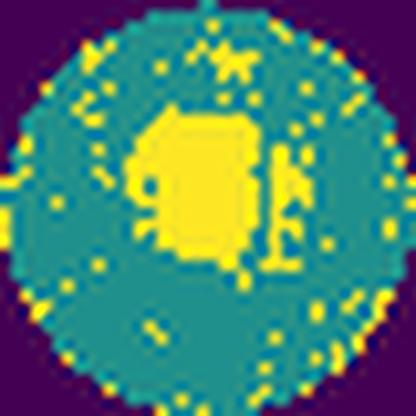Center: (122, 102, 314, 296)
